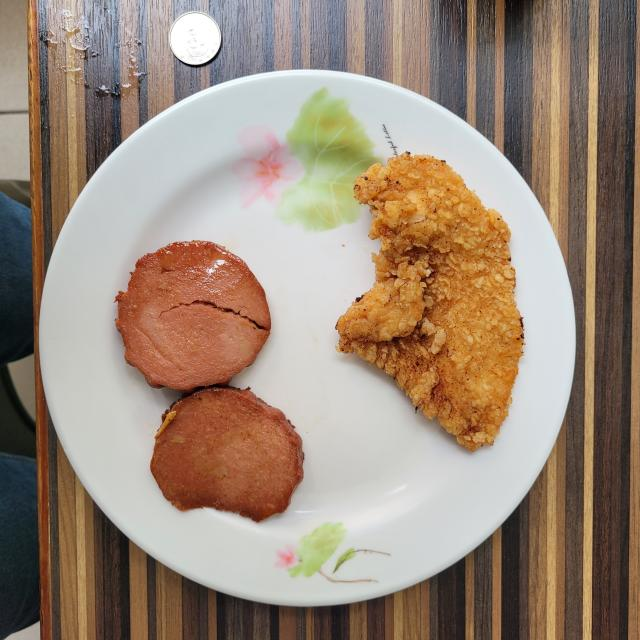Spam: (116, 241, 304, 521)
coin: (169, 11, 221, 65)
fried chicken cutlet: (338, 152, 524, 450)
